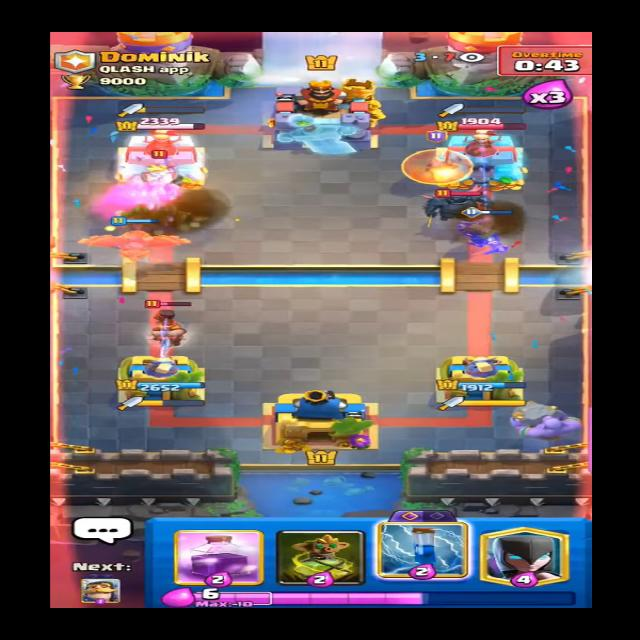evo-wizard: (396, 135, 484, 190)
pekka: (426, 182, 504, 225)
ram-rider: (139, 294, 201, 348)
royal-ghost: (132, 155, 195, 193)
